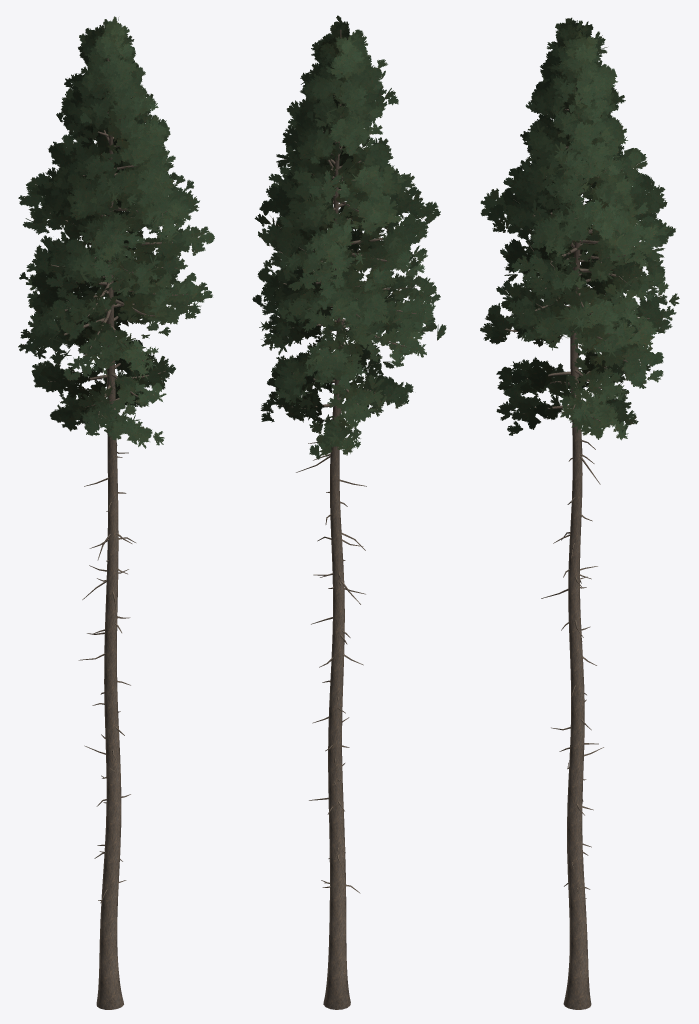
File: pine_b.glb
3 renders of one model, left to right at view 1: azimuth 30°, elevation 25°; view 2: azimuth 150°, elevation 25°; view 3: azimuth 270°, elevation 25°, orthographic.
Visible parts, largest first — view 1: pine_b; view 2: pine_b; view 3: pine_b.
Boxes of the visible parts, box(x1,y1,x2,y2) form: pine_b: box(18, 16, 214, 1009); pine_b: box(252, 15, 446, 1009); pine_b: box(480, 17, 679, 1009).
Size of the model in its own units: 4.34 by 23.26 by 4.45.
2 materials, 2 textured.
